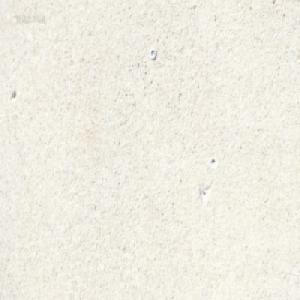Washer: (149, 47, 156, 59)
